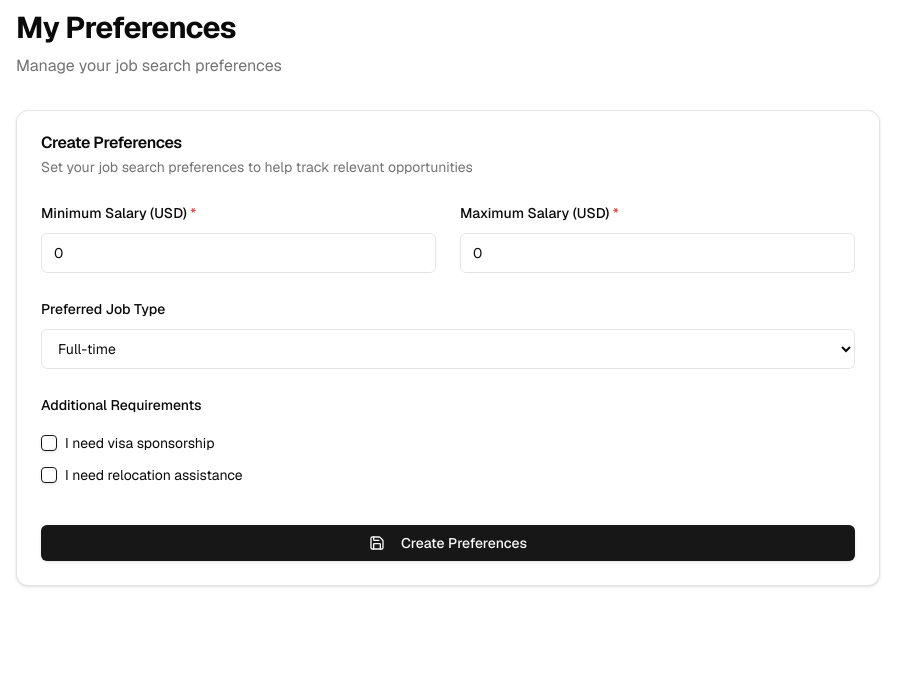
Test: PreferencesPage Component › Error Handling › should display error message when create fails
Expected: the number field labelled "Minimum Salary (USD) *" is shown, [41,233,436,273]
What coordinates should you click on to do the following:
click the button "Create Preferences"
I would click on:
 (448, 543)
Its box is [41,525,855,561].
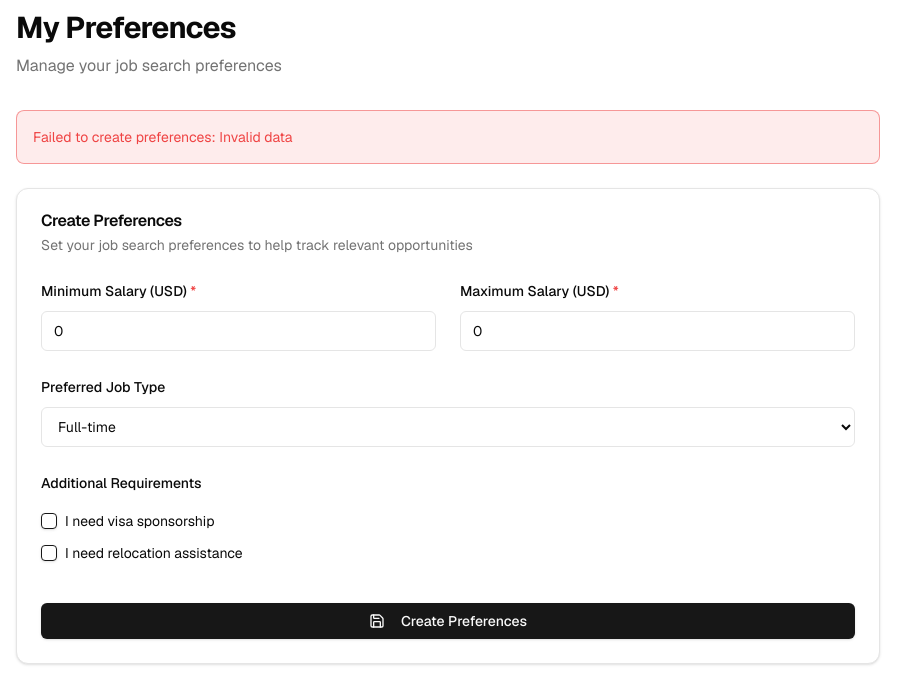
Expected: the text "Failed to create preferences: Invalid data" is shown, [33,128,292,146]
